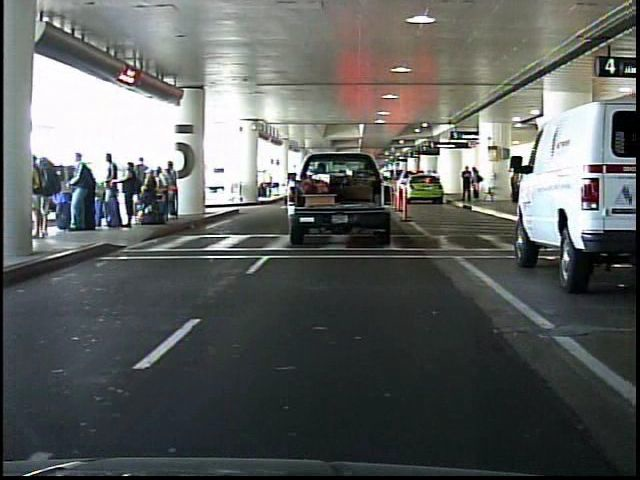person: (470, 165, 484, 203), (460, 165, 472, 203)
